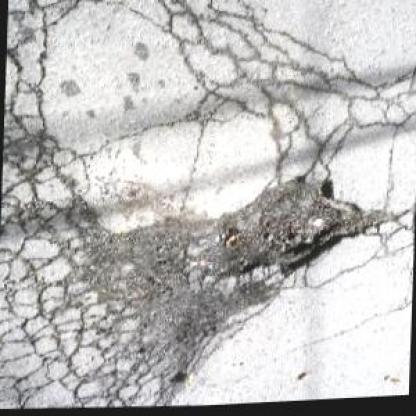pothole: (211, 169, 399, 291)
